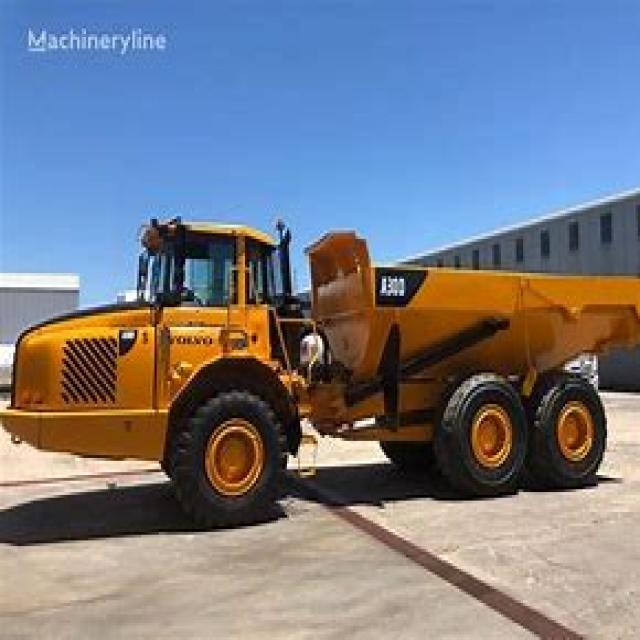dump_truck: (4, 196, 638, 524)
